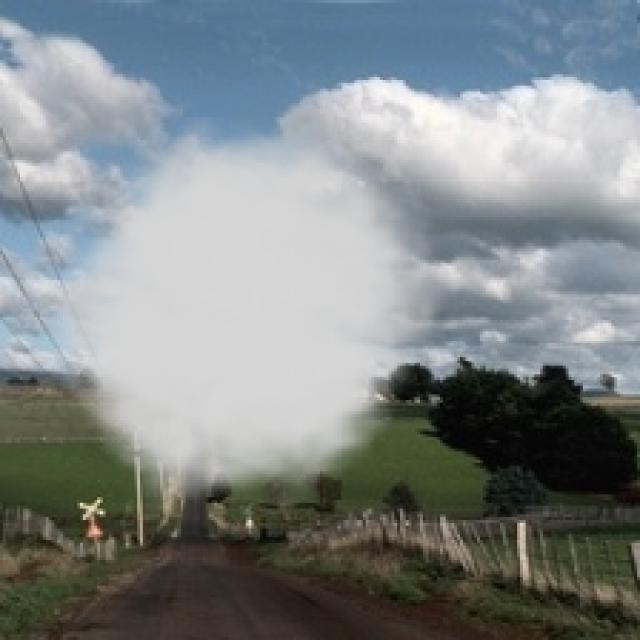smoke: (34, 117, 457, 517)
